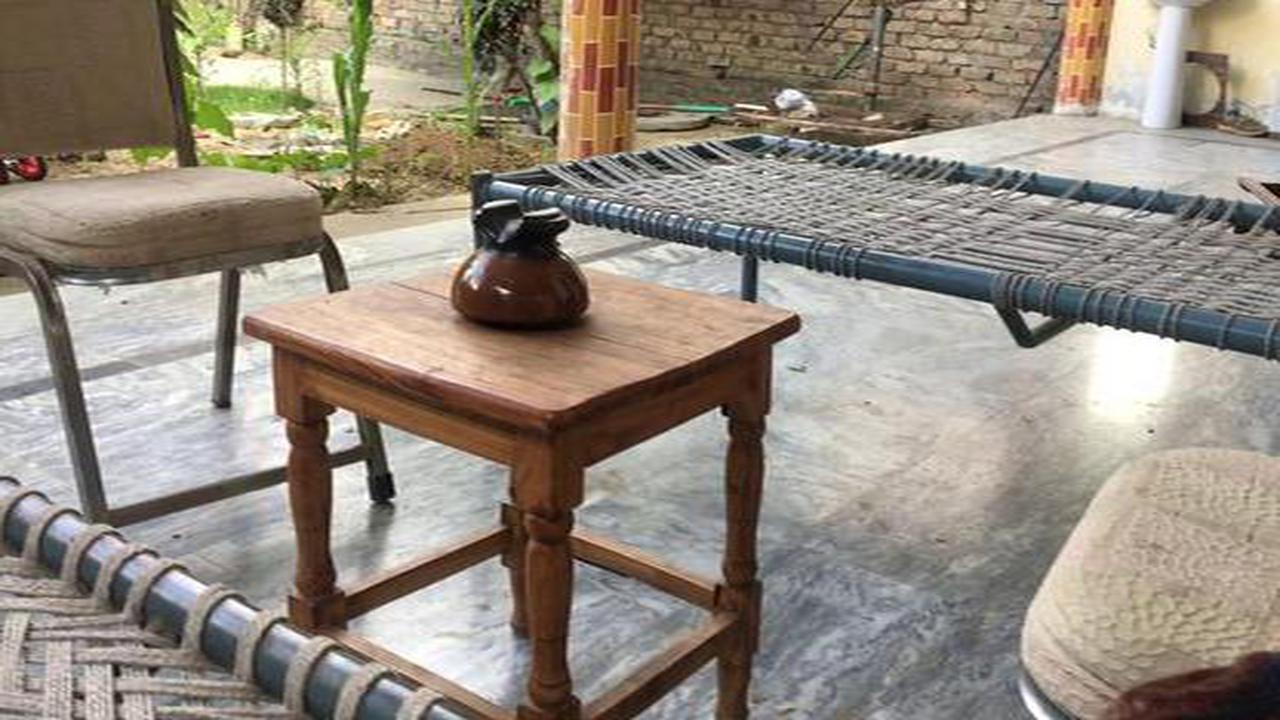insulator_pin: (437, 184, 607, 336)
